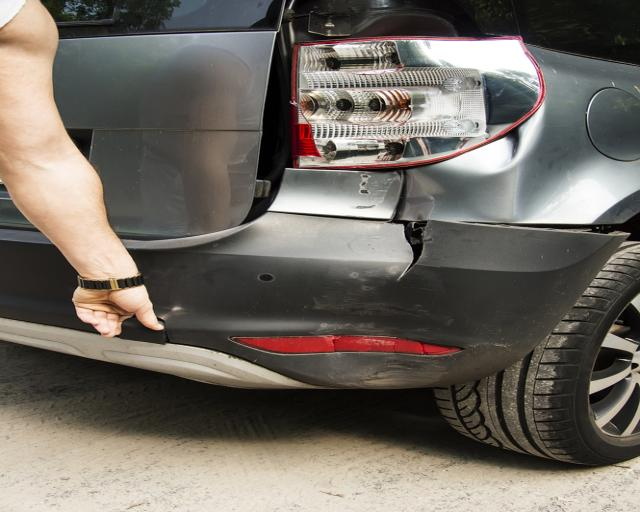crack: (396, 220, 432, 282)
dent: (321, 265, 455, 386), (445, 116, 534, 170)
lamp broken: (291, 35, 546, 172)
scratch: (353, 171, 400, 213)
